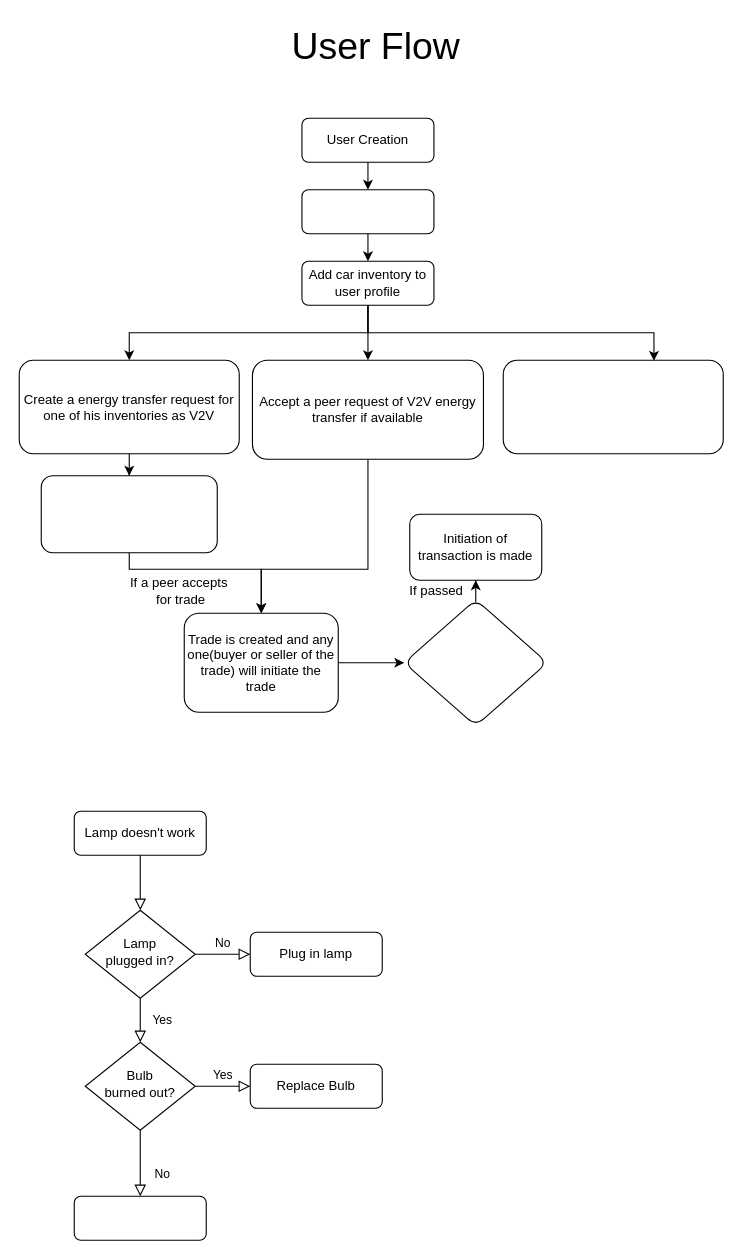
Image size: 743x1260. Some labels were removed from this diagram. The shapes that lost their labels are listed below. From the top down, each one's centre as x and y in pixels, then its label:
point 367,211: User Authentication and Authorisation
point 612,406: Create a energy transfer request for one of his inventories as V2G or G2V
point 128,514: Created request will be visible to peers for trade acceptance
point 475,662: pre-check of users balances is made
point 139,1217: Repair Lamp
